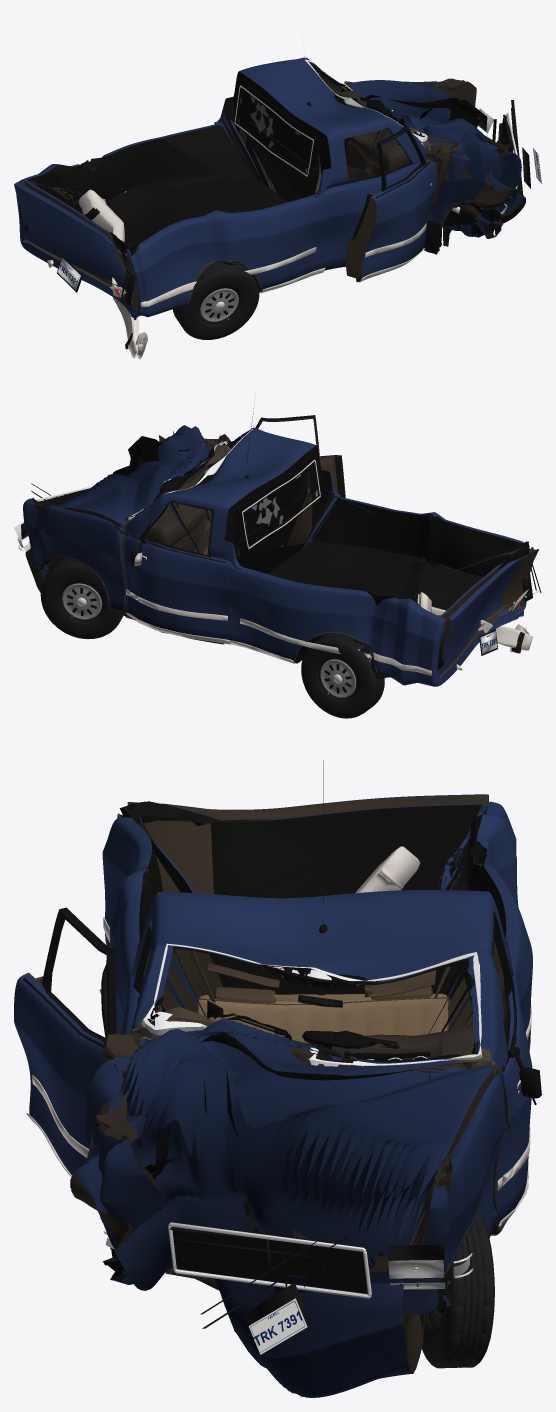
File: pickup87_front_corner_R_d3_lod1.glb
3 views of the same model, one above another, from view 1: azimuth 30°, elevation 25°; view 2: azimuth 150°, elevation 25°; view 3: azimuth 270°, elevation 25° (orthographic). The views are drawn at different scales.
Visible parts, largest first — view 1: Body, Door_FR, Hood, Tailgate, Wheel_RR_mesh, Ends, Interior, Bumper_R, Trim, Glass, Trim_FR; view 2: Body, Door_FL, Hood, Wheel_RL_mesh, Wheel_FL_mesh, Tailgate, Trim, Interior, Trim_FL, Ends, Glass, Bumper_R (+1 smaller); view 3: Body, Hood, Ends, Interior, Door_FR, Wheel_FL_mesh, Door_FL, Glass, Tailgate, Trim, Trim_FL, Trim_FR (+1 smaller).
Boxes of the visible parts, <box> form: Body: <box>16,57,521,320</box>; Door_FR: <box>345,126,437,279</box>; Hood: <box>346,80,525,236</box>; Tailgate: <box>14,182,134,304</box>; Wheel_RR_mesh: <box>172,262,259,339</box>; Ends: <box>19,100,541,305</box>; Interior: <box>315,90,408,192</box>; Bumper_R: <box>78,189,147,358</box>; Trim: <box>140,56,503,307</box>; Glass: <box>234,59,427,176</box>; Trim_FR: <box>356,128,433,282</box>; Body: <box>23,426,533,686</box>; Door_FL: <box>122,499,231,639</box>; Hood: <box>25,425,214,592</box>; Wheel_RL_mesh: <box>301,634,384,718</box>; Wheel_FL_mesh: <box>40,558,123,639</box>; Tailgate: <box>440,549,539,674</box>; Trim: <box>41,398,461,676</box>; Interior: <box>143,468,212,554</box>; Trim_FL: <box>125,500,230,644</box>; Ends: <box>14,483,541,669</box>; Glass: <box>128,429,320,548</box>; Bumper_R: <box>417,592,532,653</box>; Body: <box>85,801,532,1314</box>; Hood: <box>70,1018,497,1397</box>; Ends: <box>99,1202,473,1354</box>; Interior: <box>197,962,473,1060</box>; Door_FR: <box>14,907,116,1175</box>; Wheel_FL_mesh: <box>421,1211,494,1368</box>; Door_FL: <box>491,910,532,1221</box>; Glass: <box>141,943,481,1066</box>; Tailgate: <box>127,794,488,820</box>; Trim: <box>102,760,531,1302</box>; Trim_FL: <box>492,911,541,1226</box>; Trim_FR: <box>23,910,109,1176</box>.
Size of the model in its own units: 4.88 by 2.57 by 2.49.
33 materials, 5 textured.
